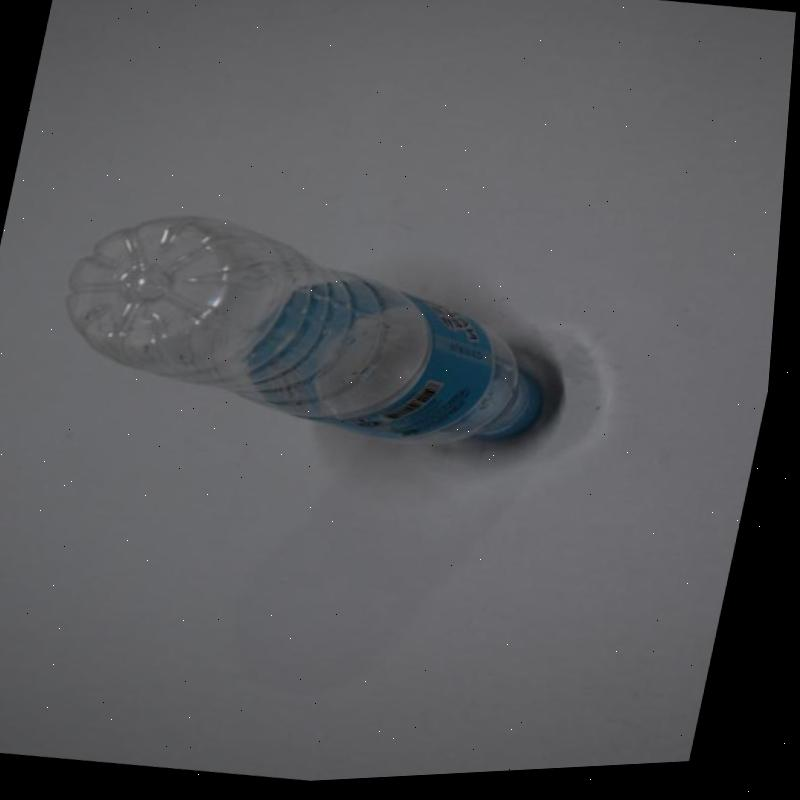botella: (41, 187, 583, 477)
